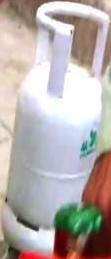cylinder: (0, 1, 111, 259)
